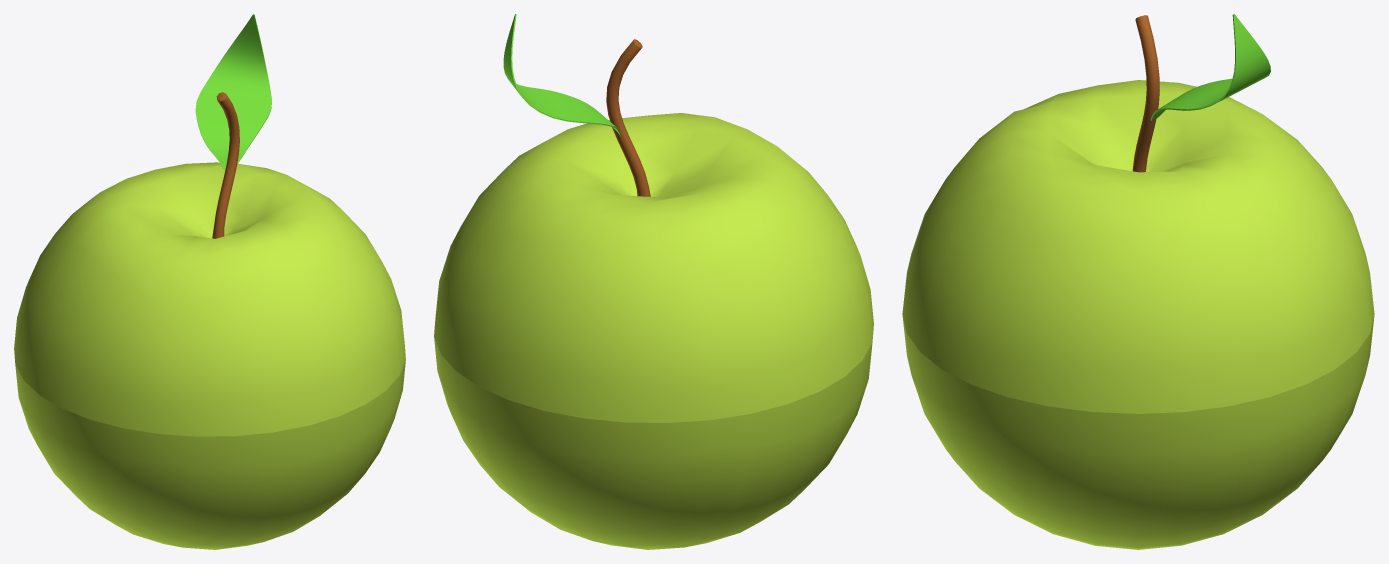
The model's file is New_apple_slices.fbx.
3 views of the same model, side by side, from view 1: azimuth 30°, elevation 25°; view 2: azimuth 150°, elevation 25°; view 3: azimuth 270°, elevation 25° (orthographic). The views are drawn at different scales.
Parts seen in each view (by area): view 1: Apple_piece_top, Apple_piece_bottom; view 2: Apple_piece_top, Apple_piece_bottom; view 3: Apple_piece_top, Apple_piece_bottom.
Part boxes in pixels (x1,y1,x2,y2): Apple_piece_top: [14, 14, 405, 436]; Apple_piece_bottom: [15, 360, 405, 549]; Apple_piece_top: [434, 14, 873, 422]; Apple_piece_bottom: [434, 337, 872, 549]; Apple_piece_top: [902, 14, 1374, 413]; Apple_piece_bottom: [902, 316, 1374, 549].
Size of the model in its own units: 793 by 1018 by 793.
